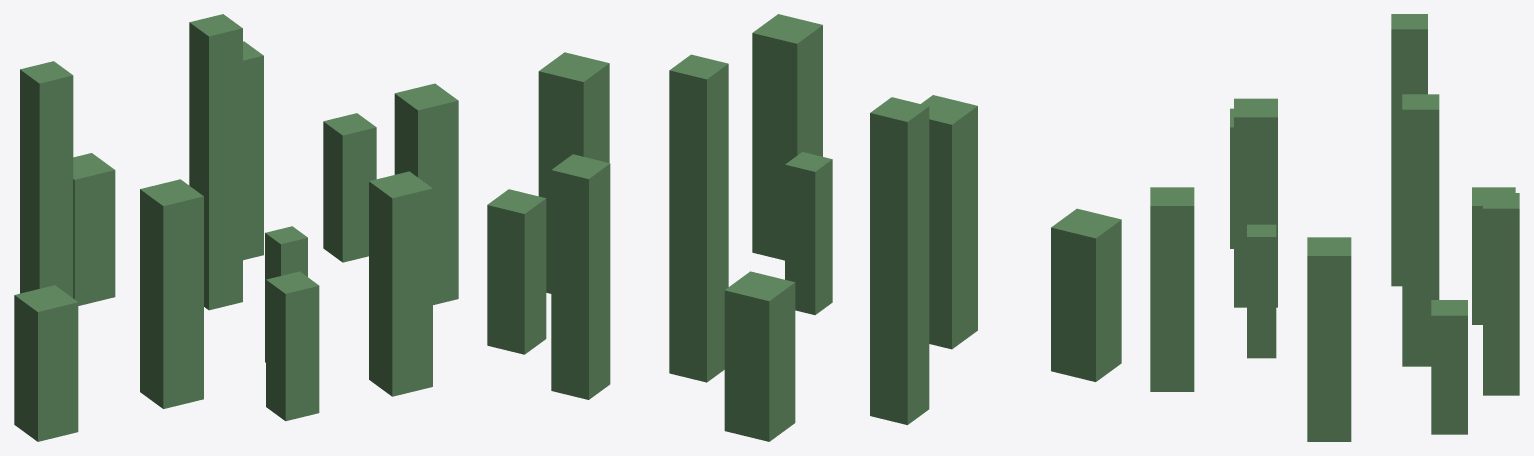
The model's file is PlantA_002.fbx.
3 renders of one model, left to right at view 1: azimuth 30°, elevation 25°; view 2: azimuth 150°, elevation 25°; view 3: azimuth 270°, elevation 25°, orthographic. The views are drawn at different scales.
Parts seen in each view (by area): view 1: PLantA_002; view 2: PLantA_002; view 3: PLantA_002.
Part boxes in pixels (x1,y1,x2,y2): PLantA_002: [14, 14, 458, 441]; PLantA_002: [487, 14, 1121, 441]; PLantA_002: [1150, 14, 1519, 441].
Bounding box in the file's own units: 0.4533 × 0.2567 × 0.3344.
